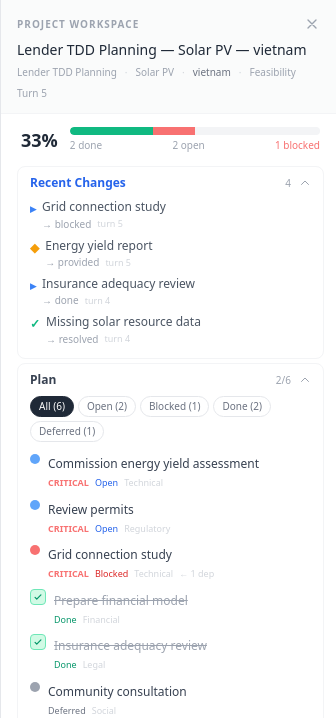
Scenario: ProjectWorkspace — interactions › toggles section accordion
Step 1. Click the text "Plan" → (43, 380), box [30,372,56,388]
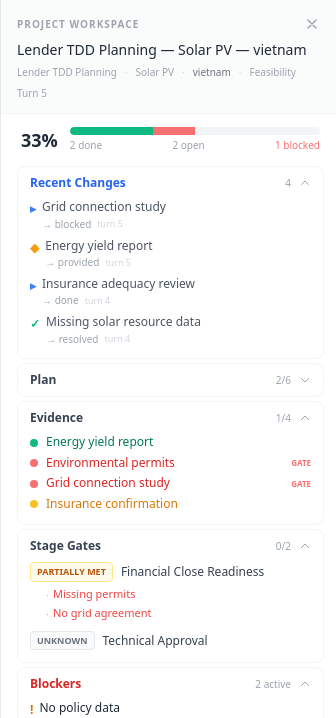
expect the element with test id "full-plan-list" is gone: met
